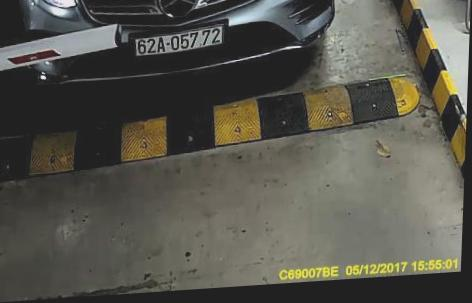License_Plate: (136, 26, 223, 56)
